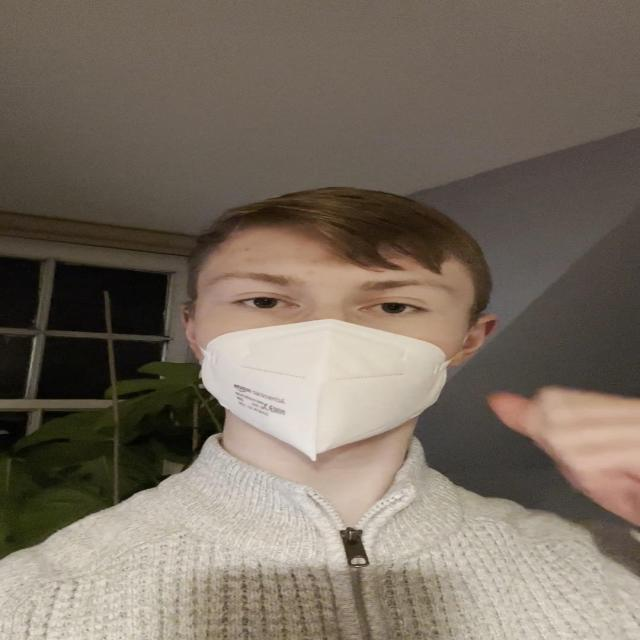no-helmet: (198, 223, 475, 462)
